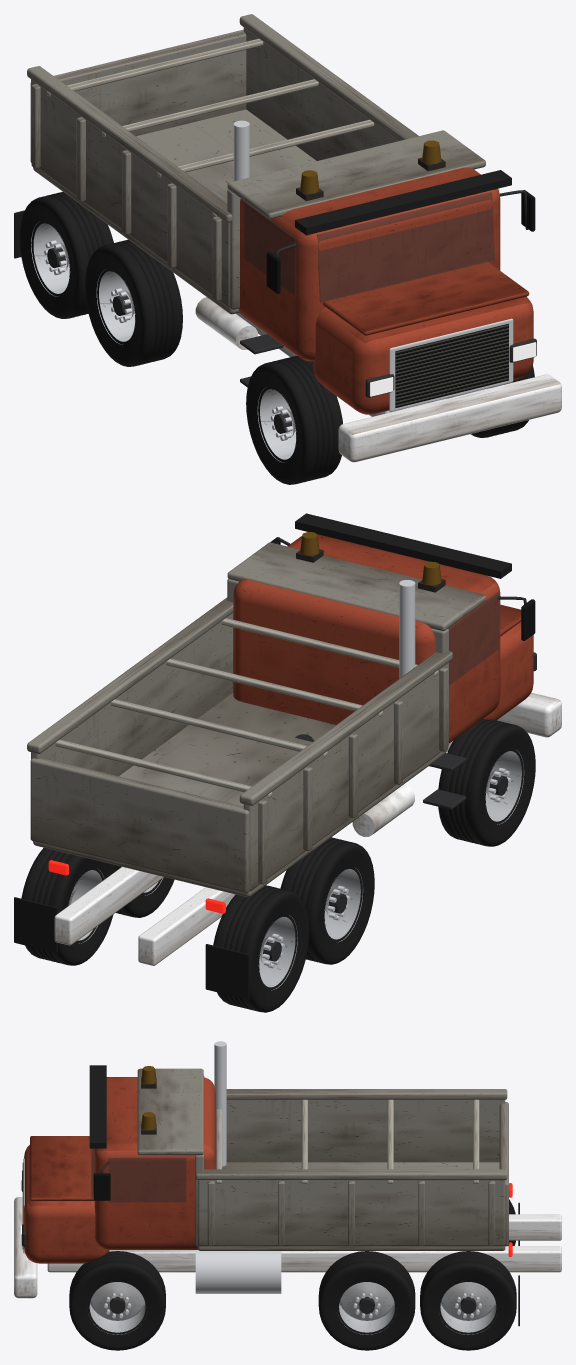
File: dumptruck_reference.glb
3 renders of one model, top to bottom at view 1: azimuth 30°, elevation 25°; view 2: azimuth 150°, elevation 25°; view 3: azimuth 270°, elevation 25°, orthographic. The views are drawn at different scales.
Parts seen in each view (by area): view 1: body, wheel_2_right, wheel_1_right, wheel_3_right; view 2: body, wheel_1_right, wheel_3_right, wheel_2_right, wheel_3_left, wheel_2_left; view 3: body, wheel_2_left, wheel_3_left, wheel_1_left.
Boxes of the visible parts, left/top/right/bottom form: body: left=14, top=14, right=561, bottom=462; wheel_2_right: left=85, top=239, right=182, bottom=366; wheel_1_right: left=246, top=356, right=342, bottom=484; wheel_3_right: left=19, top=191, right=113, bottom=318; body: left=14, top=513, right=561, bottom=999; wheel_1_right: left=438, top=719, right=535, bottom=846; wheel_3_right: left=213, top=885, right=309, bottom=1012; wheel_2_right: left=280, top=837, right=374, bottom=964; wheel_3_left: left=21, top=847, right=116, bottom=965; wheel_2_left: left=115, top=865, right=174, bottom=917; body: left=14, top=1041, right=561, bottom=1326; wheel_2_left: left=318, top=1251, right=415, bottom=1350; wheel_3_left: left=420, top=1251, right=516, bottom=1350; wheel_1_left: left=69, top=1251, right=165, bottom=1350.
Bounding box in the file's own units: 2.97 × 3.3 × 7.03.
22 materials, 10 textured.
